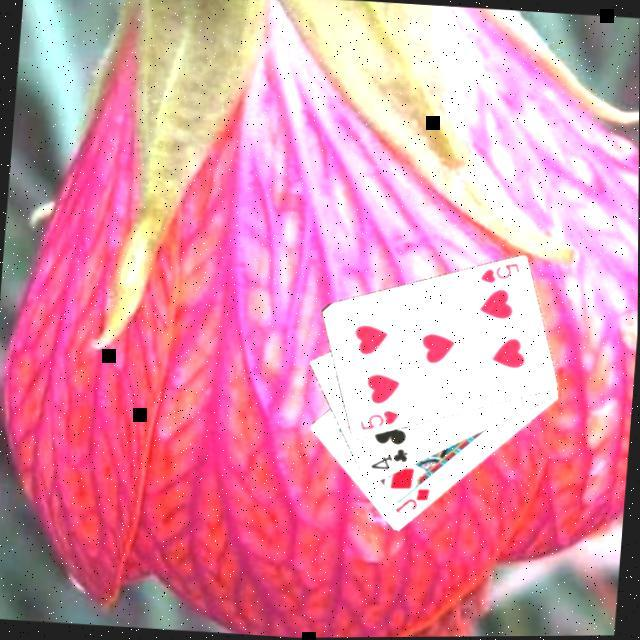4C: (365, 442, 410, 473)
5H: (474, 256, 521, 287), (353, 403, 399, 433)
JD: (389, 481, 431, 516)
